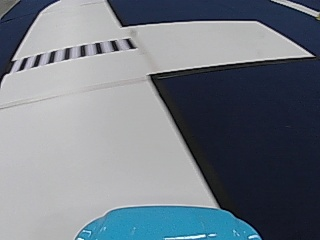CrossWalk: (17, 37, 130, 68)
